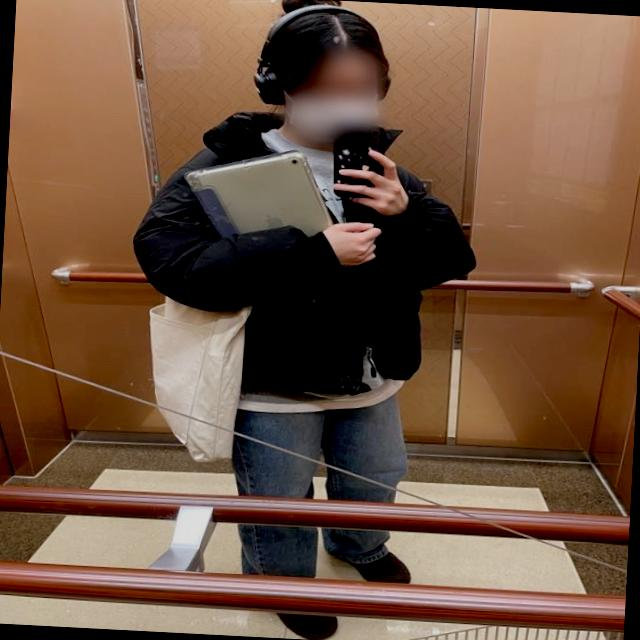denimpants: (228, 387, 412, 595)
padding: (128, 104, 486, 406)
